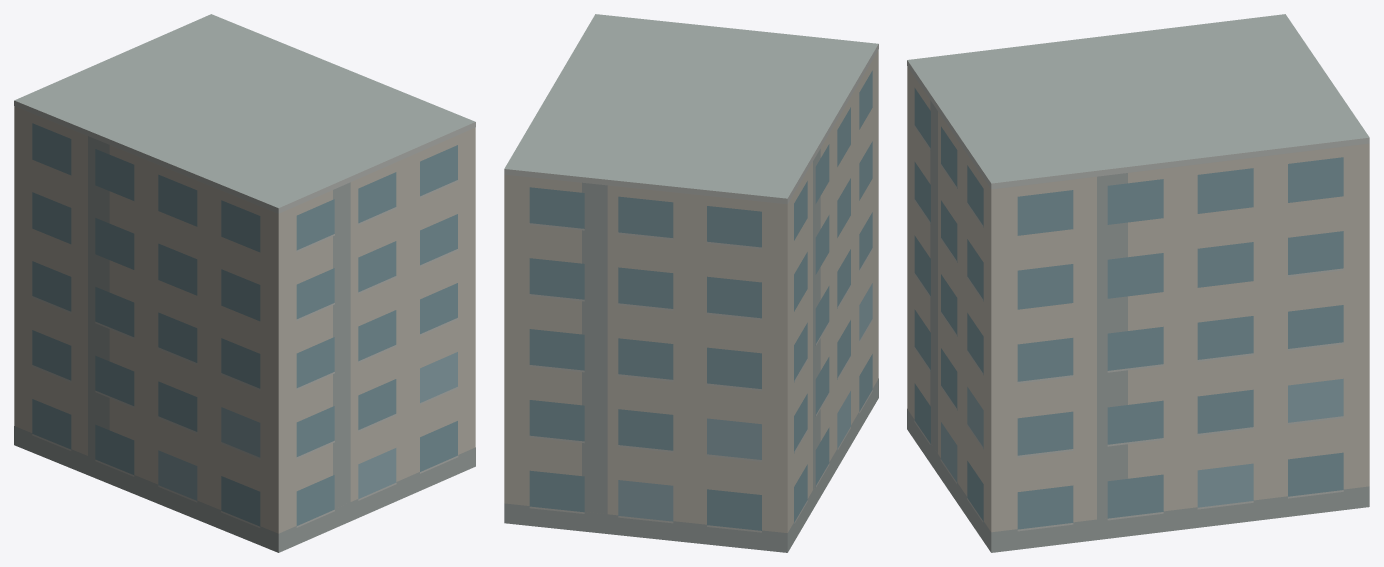
Rendered from residential-76f9896e-1d23-4a94-b5c5-7ad0214c10cb.glb.
The picture shows the model from 3 angles, left to right: view 1: azimuth 30°, elevation 25°; view 2: azimuth 150°, elevation 25°; view 3: azimuth 270°, elevation 25°; orthographic projection. The views are drawn at different scales.
Visible parts, largest first — view 1: residential-76f9896e-1d23-4a94-b5c5-7ad0214c10cb.tmp; view 2: residential-76f9896e-1d23-4a94-b5c5-7ad0214c10cb.tmp; view 3: residential-76f9896e-1d23-4a94-b5c5-7ad0214c10cb.tmp.
Part boxes in pixels (bbox=[...]): residential-76f9896e-1d23-4a94-b5c5-7ad0214c10cb.tmp: bbox=[14, 14, 475, 552]; residential-76f9896e-1d23-4a94-b5c5-7ad0214c10cb.tmp: bbox=[504, 14, 878, 552]; residential-76f9896e-1d23-4a94-b5c5-7ad0214c10cb.tmp: bbox=[907, 14, 1369, 552].
Bounding box in the file's own units: 15.03 × 15.25 × 17.32.
